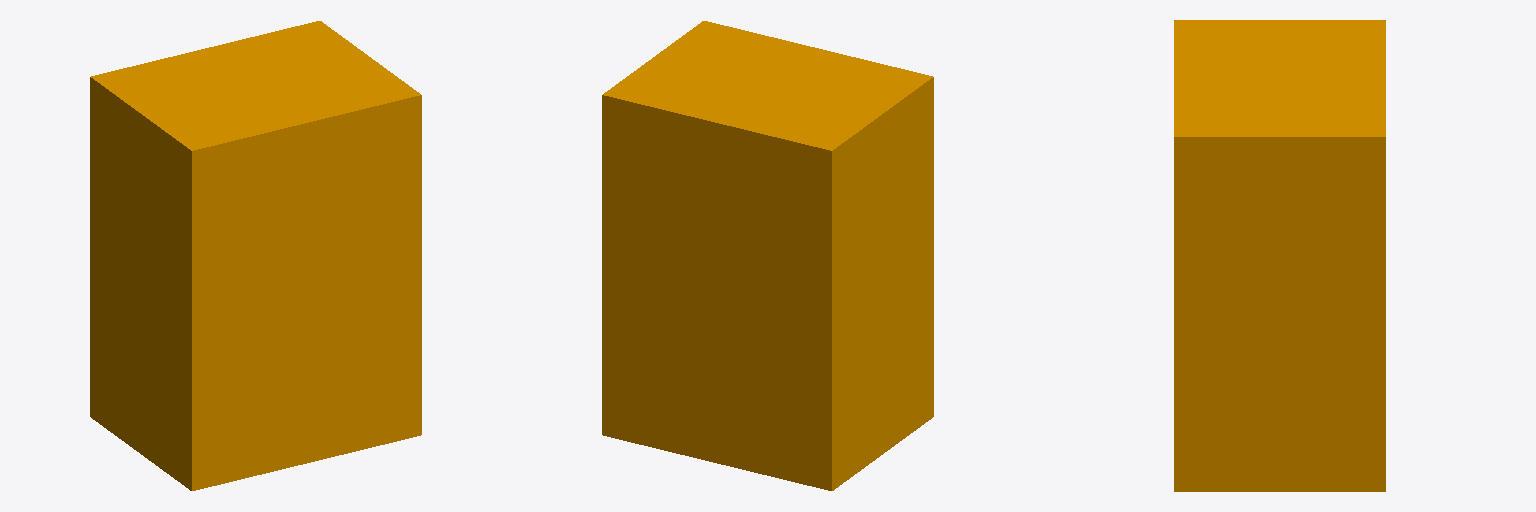
The robot description file, URDF, robot "box":
<?xml version="1.0" ?>
<robot name="box" >
  <link name="box">
    <inertial>
      <origin rpy="0 0 0" xyz="0 0 0"/>
       <mass value="4"/>
       <inertia ixx="0.1" ixy="0" ixz="0" iyy="0.1" iyz="0" izz="0.1"/>
    </inertial>
    <visual>
      <geometry>
        <mesh filename="box.obj" />
      </geometry>
    </visual>
    <collision>
      <geometry>
        <mesh filename="box.obj"/>
      </geometry>
    </collision>
  </link>
</robot>

--- Render facts (derived) ---
3 views of the same robot in one strip: view 1: azimuth 30°, elevation 25°; view 2: azimuth 150°, elevation 25°; view 3: azimuth 270°, elevation 25° (orthographic).
Model box with 1 links and 0 joints (none), rooted at box, posed all joints at 0.
Links seen in each view (by area): view 1: box; view 2: box; view 3: box.
Boxes of the visible links, x1=… form: box: x1=90, y1=21, x2=421, y2=490; box: x1=602, y1=21, x2=933, y2=490; box: x1=1174, y1=20, x2=1385, y2=491.
Size in the robot's own frame: 1.41 by 1.08 by 2 metres.
1 mesh visuals loaded from 1 distinct referenced files (1 OBJ).